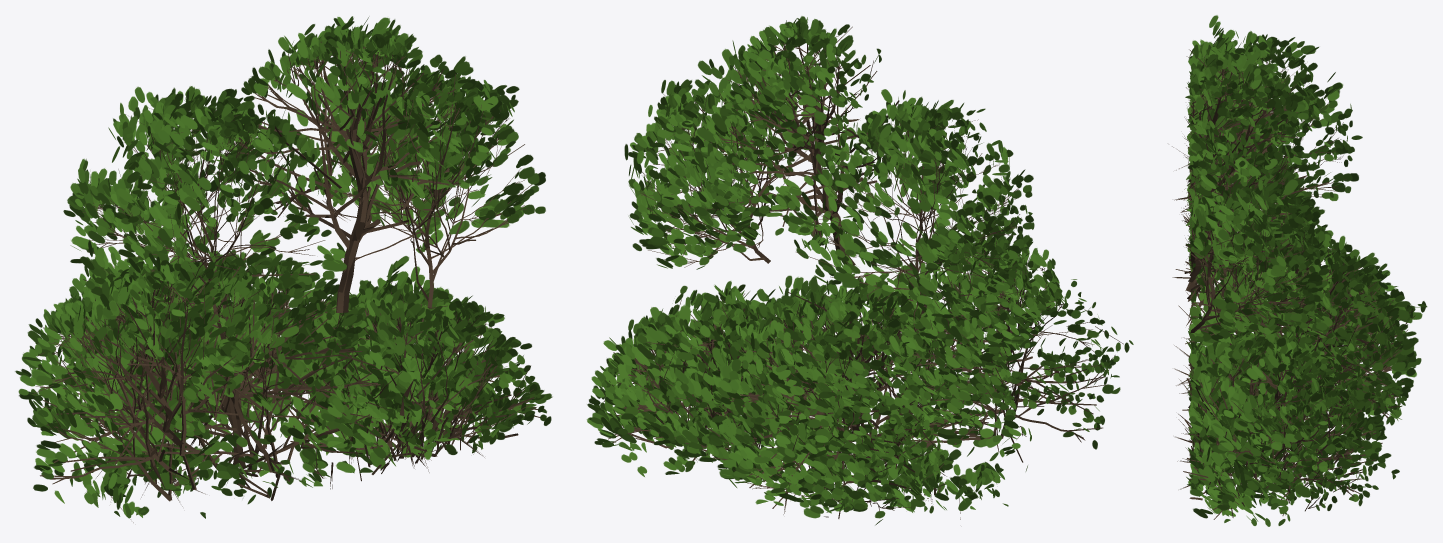
The picture shows the model from 3 angles, left to right: view 1: azimuth 30°, elevation 25°; view 2: azimuth 150°, elevation 25°; view 3: azimuth 270°, elevation 25°; orthographic projection. The views are drawn at different scales.
Visible parts, largest first — view 1: oak 01.001_trunk_Mat.001_0.262; view 2: oak 01.001_trunk_Mat.001_0.262; view 3: oak 01.001_trunk_Mat.001_0.262.
Boxes of the visible parts, x1,y1,x2,y2 form: oak 01.001_trunk_Mat.001_0.262: (15, 16, 552, 522); oak 01.001_trunk_Mat.001_0.262: (586, 16, 1133, 525); oak 01.001_trunk_Mat.001_0.262: (1172, 15, 1427, 526).
Bounding box in the file's own units: 6.3 × 5.08 × 2.96.
Materials: 2 (1 with a texture image).
